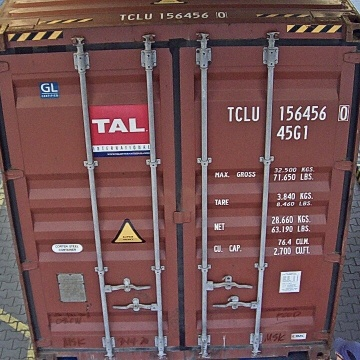serial_id: (227, 105, 349, 121)
